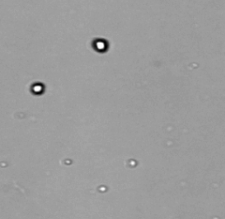Living Cell: (92, 38, 109, 53), (30, 82, 45, 95)
